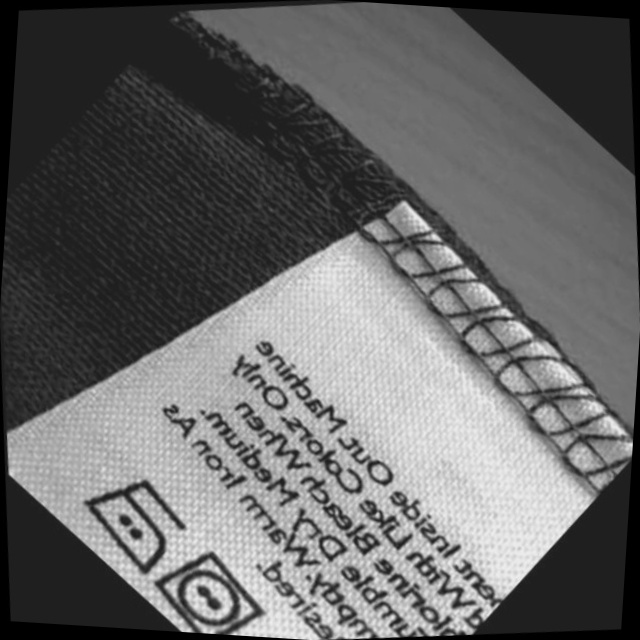iron_medium: (71, 470, 192, 580)
tumble_dry_medium: (146, 544, 269, 637)
